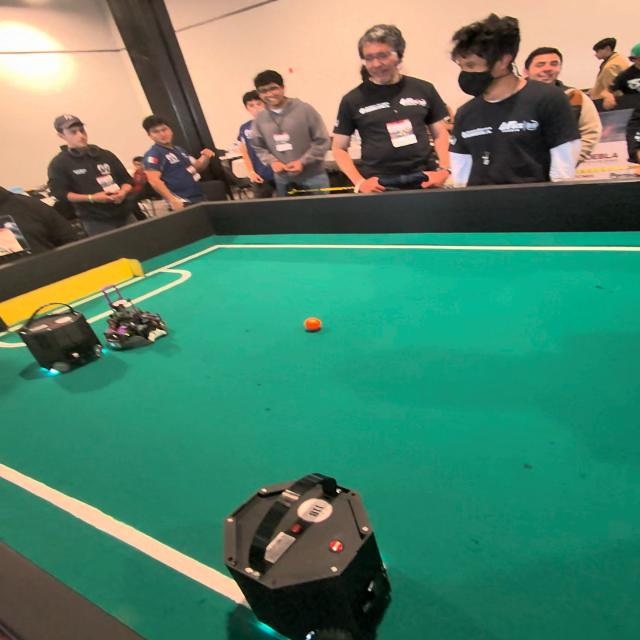Robot: (216, 466, 408, 639), (14, 296, 109, 386), (101, 288, 172, 353)
pelota: (299, 313, 329, 337)
